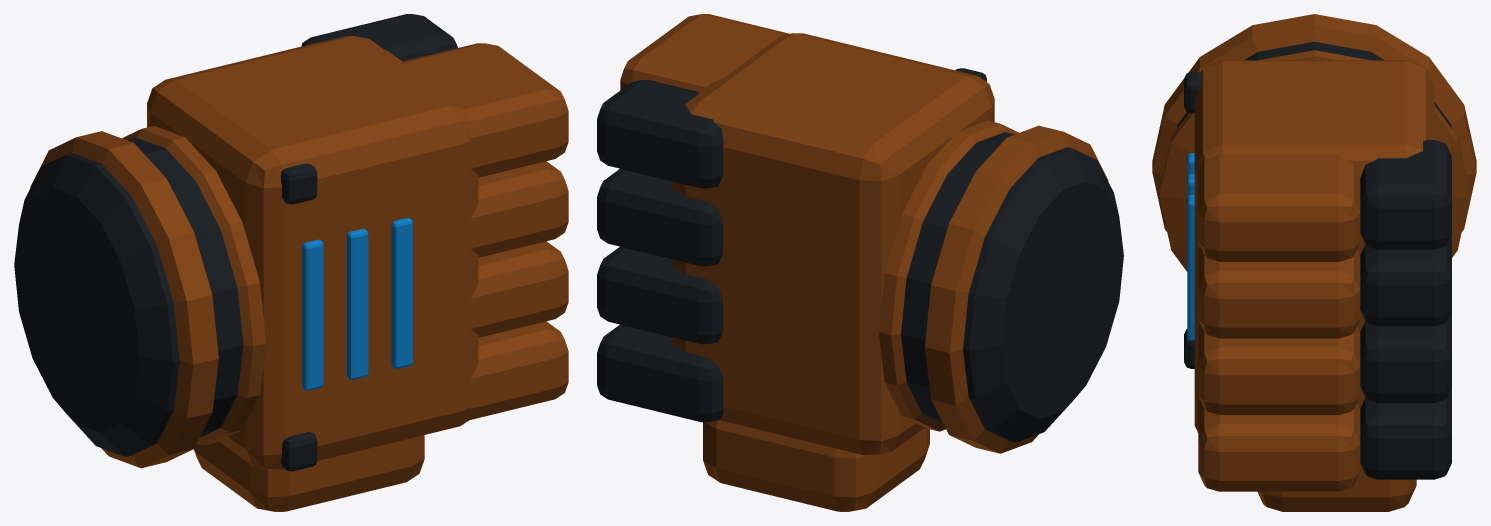
File: SM_BlitzRocketGrab.obj
The picture shows the model from 3 angles, left to right: view 1: azimuth 30°, elevation 25°; view 2: azimuth 150°, elevation 25°; view 3: azimuth 270°, elevation 25°; orthographic projection. The views are drawn at different scales.
Parts seen in each view (by area): view 1: SM_BlitzRocketGrab; view 2: SM_BlitzRocketGrab; view 3: SM_BlitzRocketGrab.
Boxes of the visible parts, x1,y1,x2,y2 form: SM_BlitzRocketGrab: [14, 14, 568, 511]; SM_BlitzRocketGrab: [597, 14, 1123, 511]; SM_BlitzRocketGrab: [1152, 14, 1476, 511].
Bounding box in the file's own units: 69 × 59 × 46.
